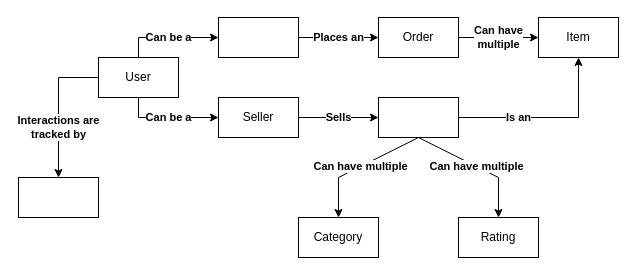
Some shapes in this 636 by 275 pixel diagram are drawn without their labels. Each missing label, with the centre of its shape:
"Buyer" belongs at point (258, 37).
"Clickstream" belongs at point (58, 197).
"Product" belongs at point (418, 117).
